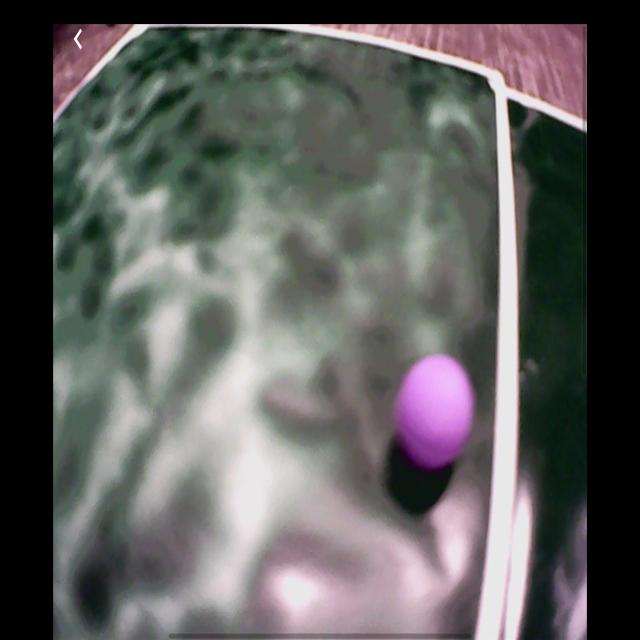ball: (397, 352, 477, 478)
